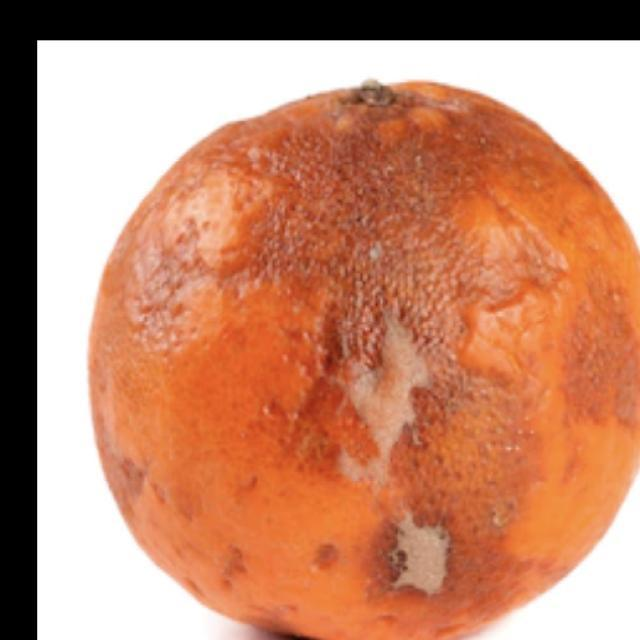sangat-busuk: (90, 82, 639, 639)
